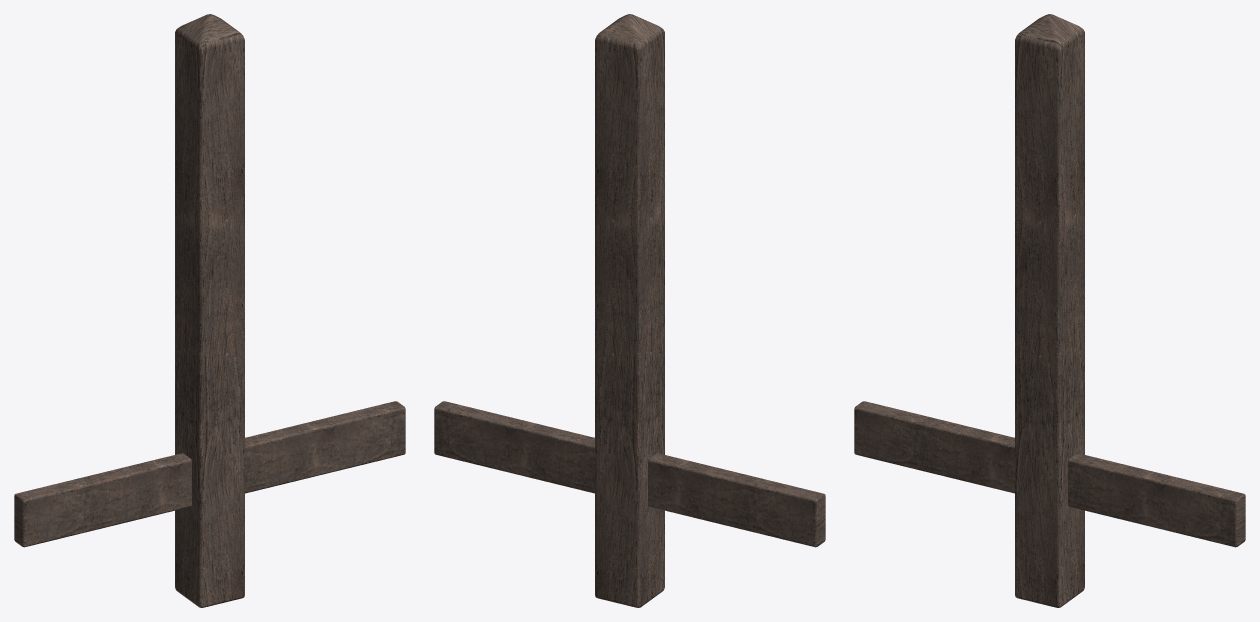
Rendered from Fence.fbx.
The picture shows the model from 3 angles, left to right: view 1: azimuth 30°, elevation 25°; view 2: azimuth 150°, elevation 25°; view 3: azimuth 330°, elevation 25°; orthographic projection.
Parts seen in each view (by area): view 1: FencePost, FenceRail; view 2: FencePost, FenceRail; view 3: FencePost, FenceRail.
Boxes of the visible parts, box(x1,y1,x2,y2) form: FencePost: box(175, 14, 244, 607); FenceRail: box(14, 401, 405, 547); FencePost: box(595, 14, 664, 607); FenceRail: box(434, 401, 825, 547); FencePost: box(1015, 14, 1084, 607); FenceRail: box(854, 401, 1245, 547).
Size of the model in its own units: 1 by 1.44 by 0.12.
